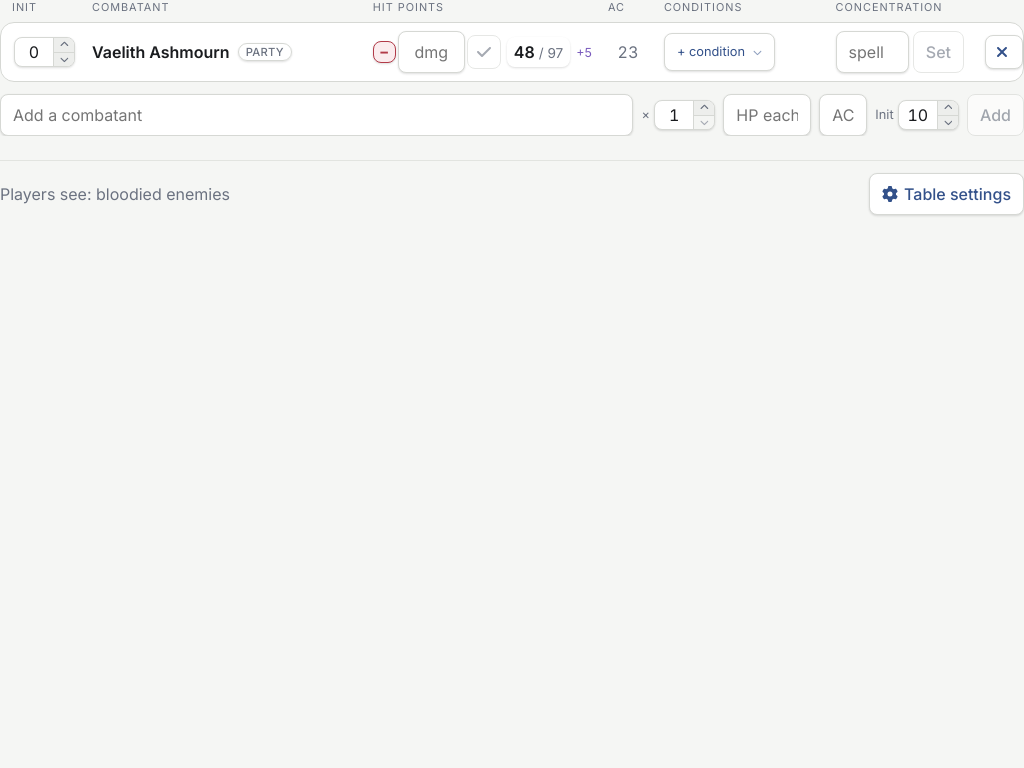
Test case: the DM board › says whether this game is on your defaults, and hands them back
Click the button "Table settings" at (946, 194), box [869, 173, 1023, 215]
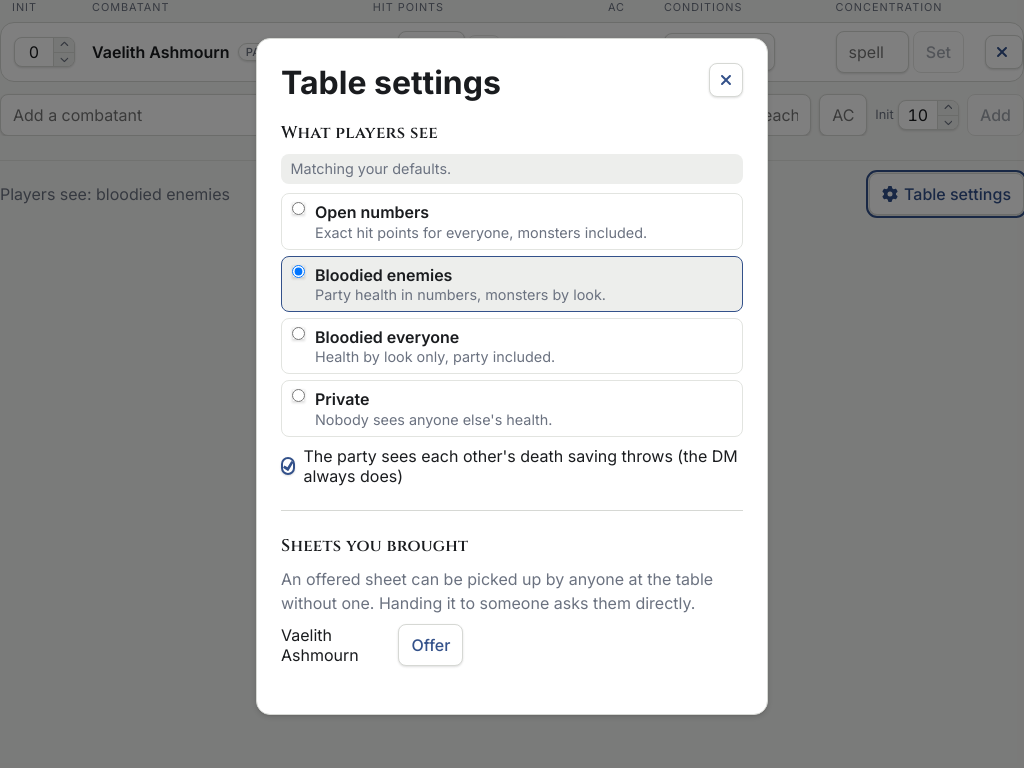
Expected: the text "Matching your defaults." is shown, [291, 160, 451, 177]
Click the radio button labelled "Private Nobody sees anyone else's health." at (299, 395), box [292, 389, 305, 402]
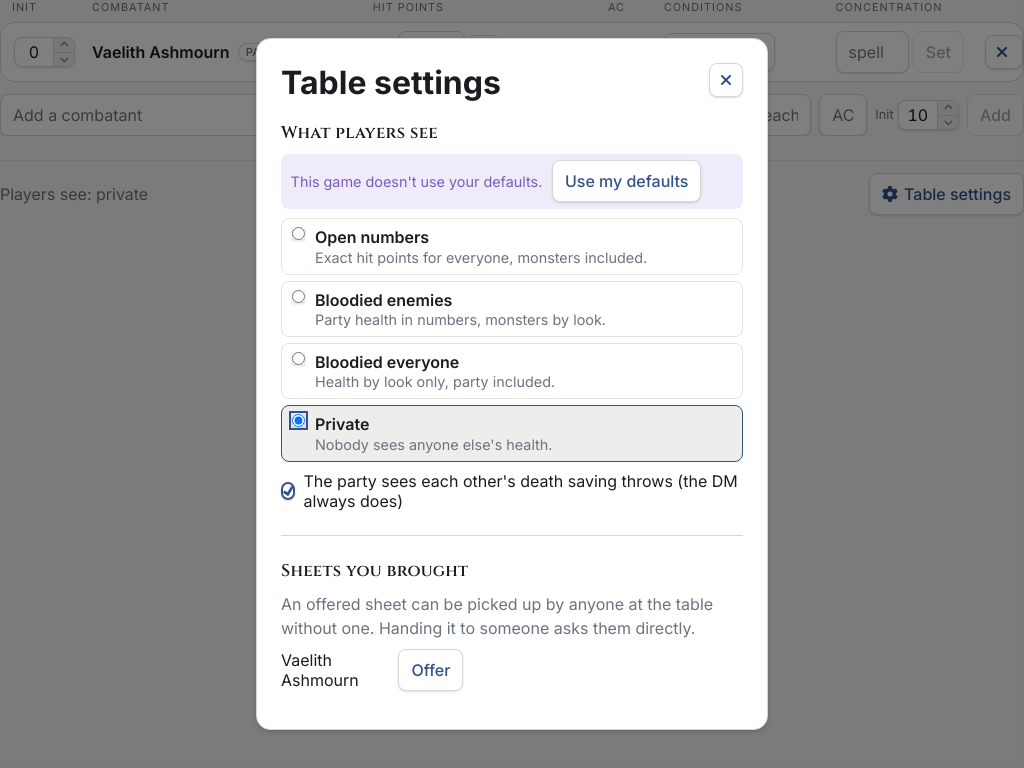
Expected: the text "This game doesn't use your defaults." is shown, [291, 173, 542, 190]
Click the button "Use my defaults" at (627, 181), box [552, 160, 701, 202]
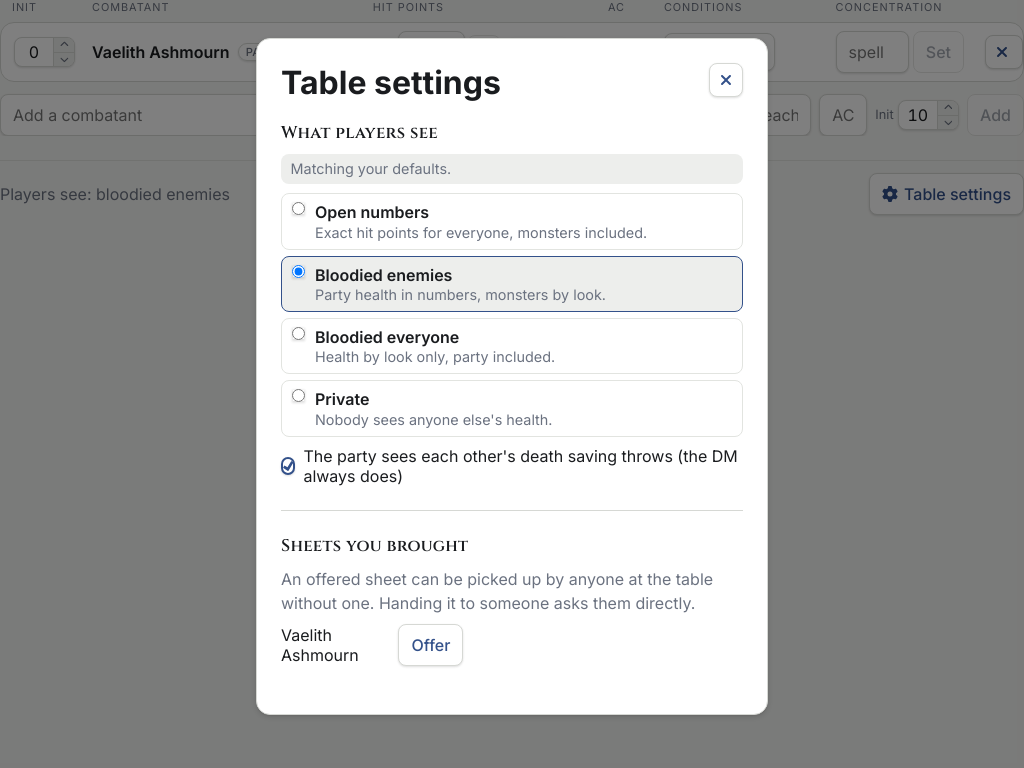
Expected: the text "Matching your defaults." is shown, [291, 160, 451, 177]
